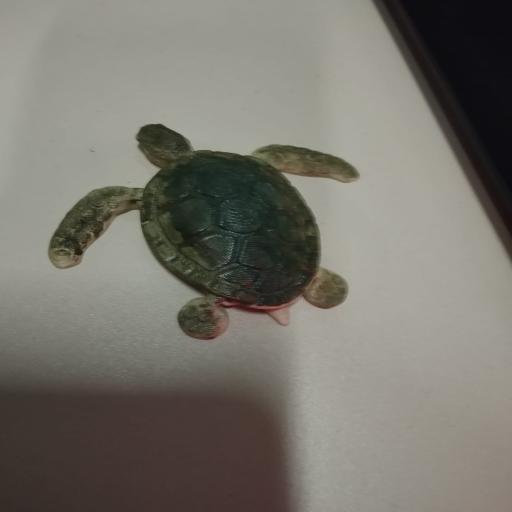Tugarin-modelo1: (48, 124, 358, 339)
